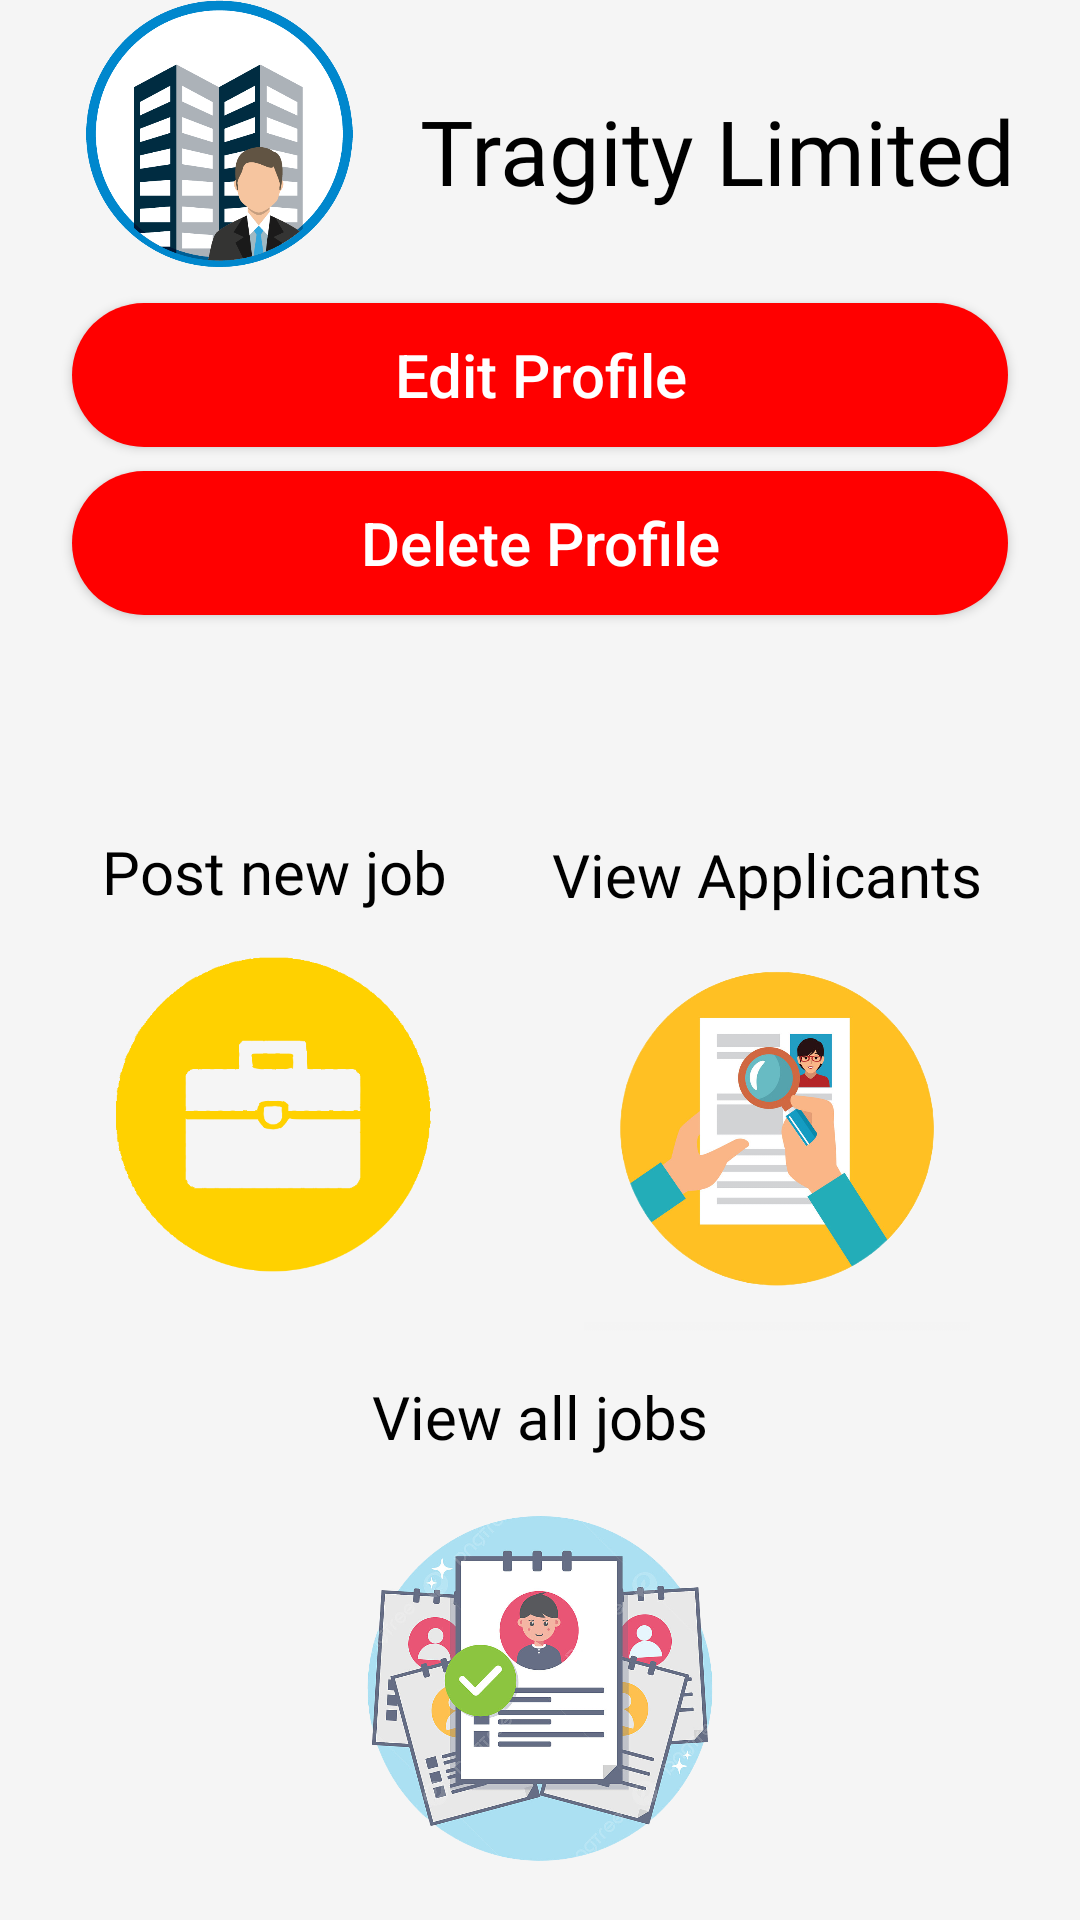

Icon click points for this 1080px×1920px phone screenshot, format (x,y):
working: (273,1114)
